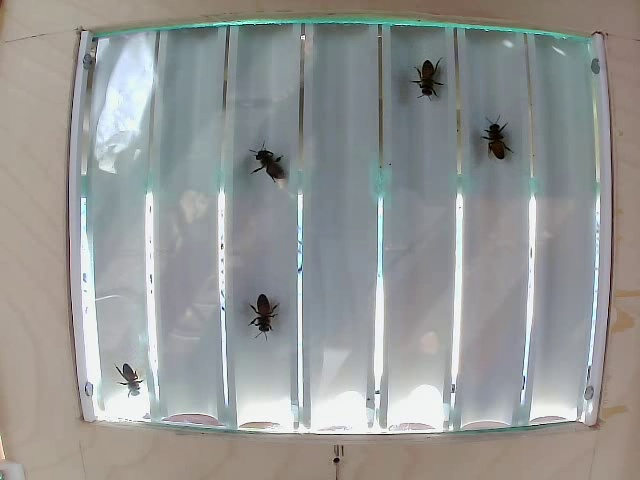bee: (248, 159, 286, 203), (487, 121, 518, 160), (113, 362, 148, 389), (245, 314, 276, 342), (418, 60, 445, 91)
